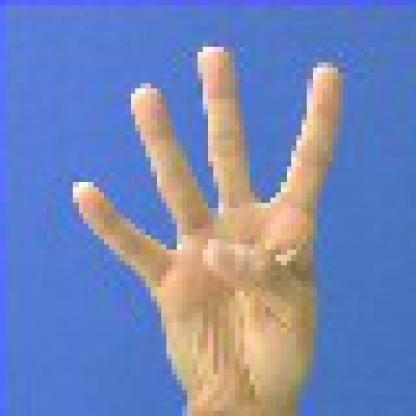four: (63, 38, 356, 416)
